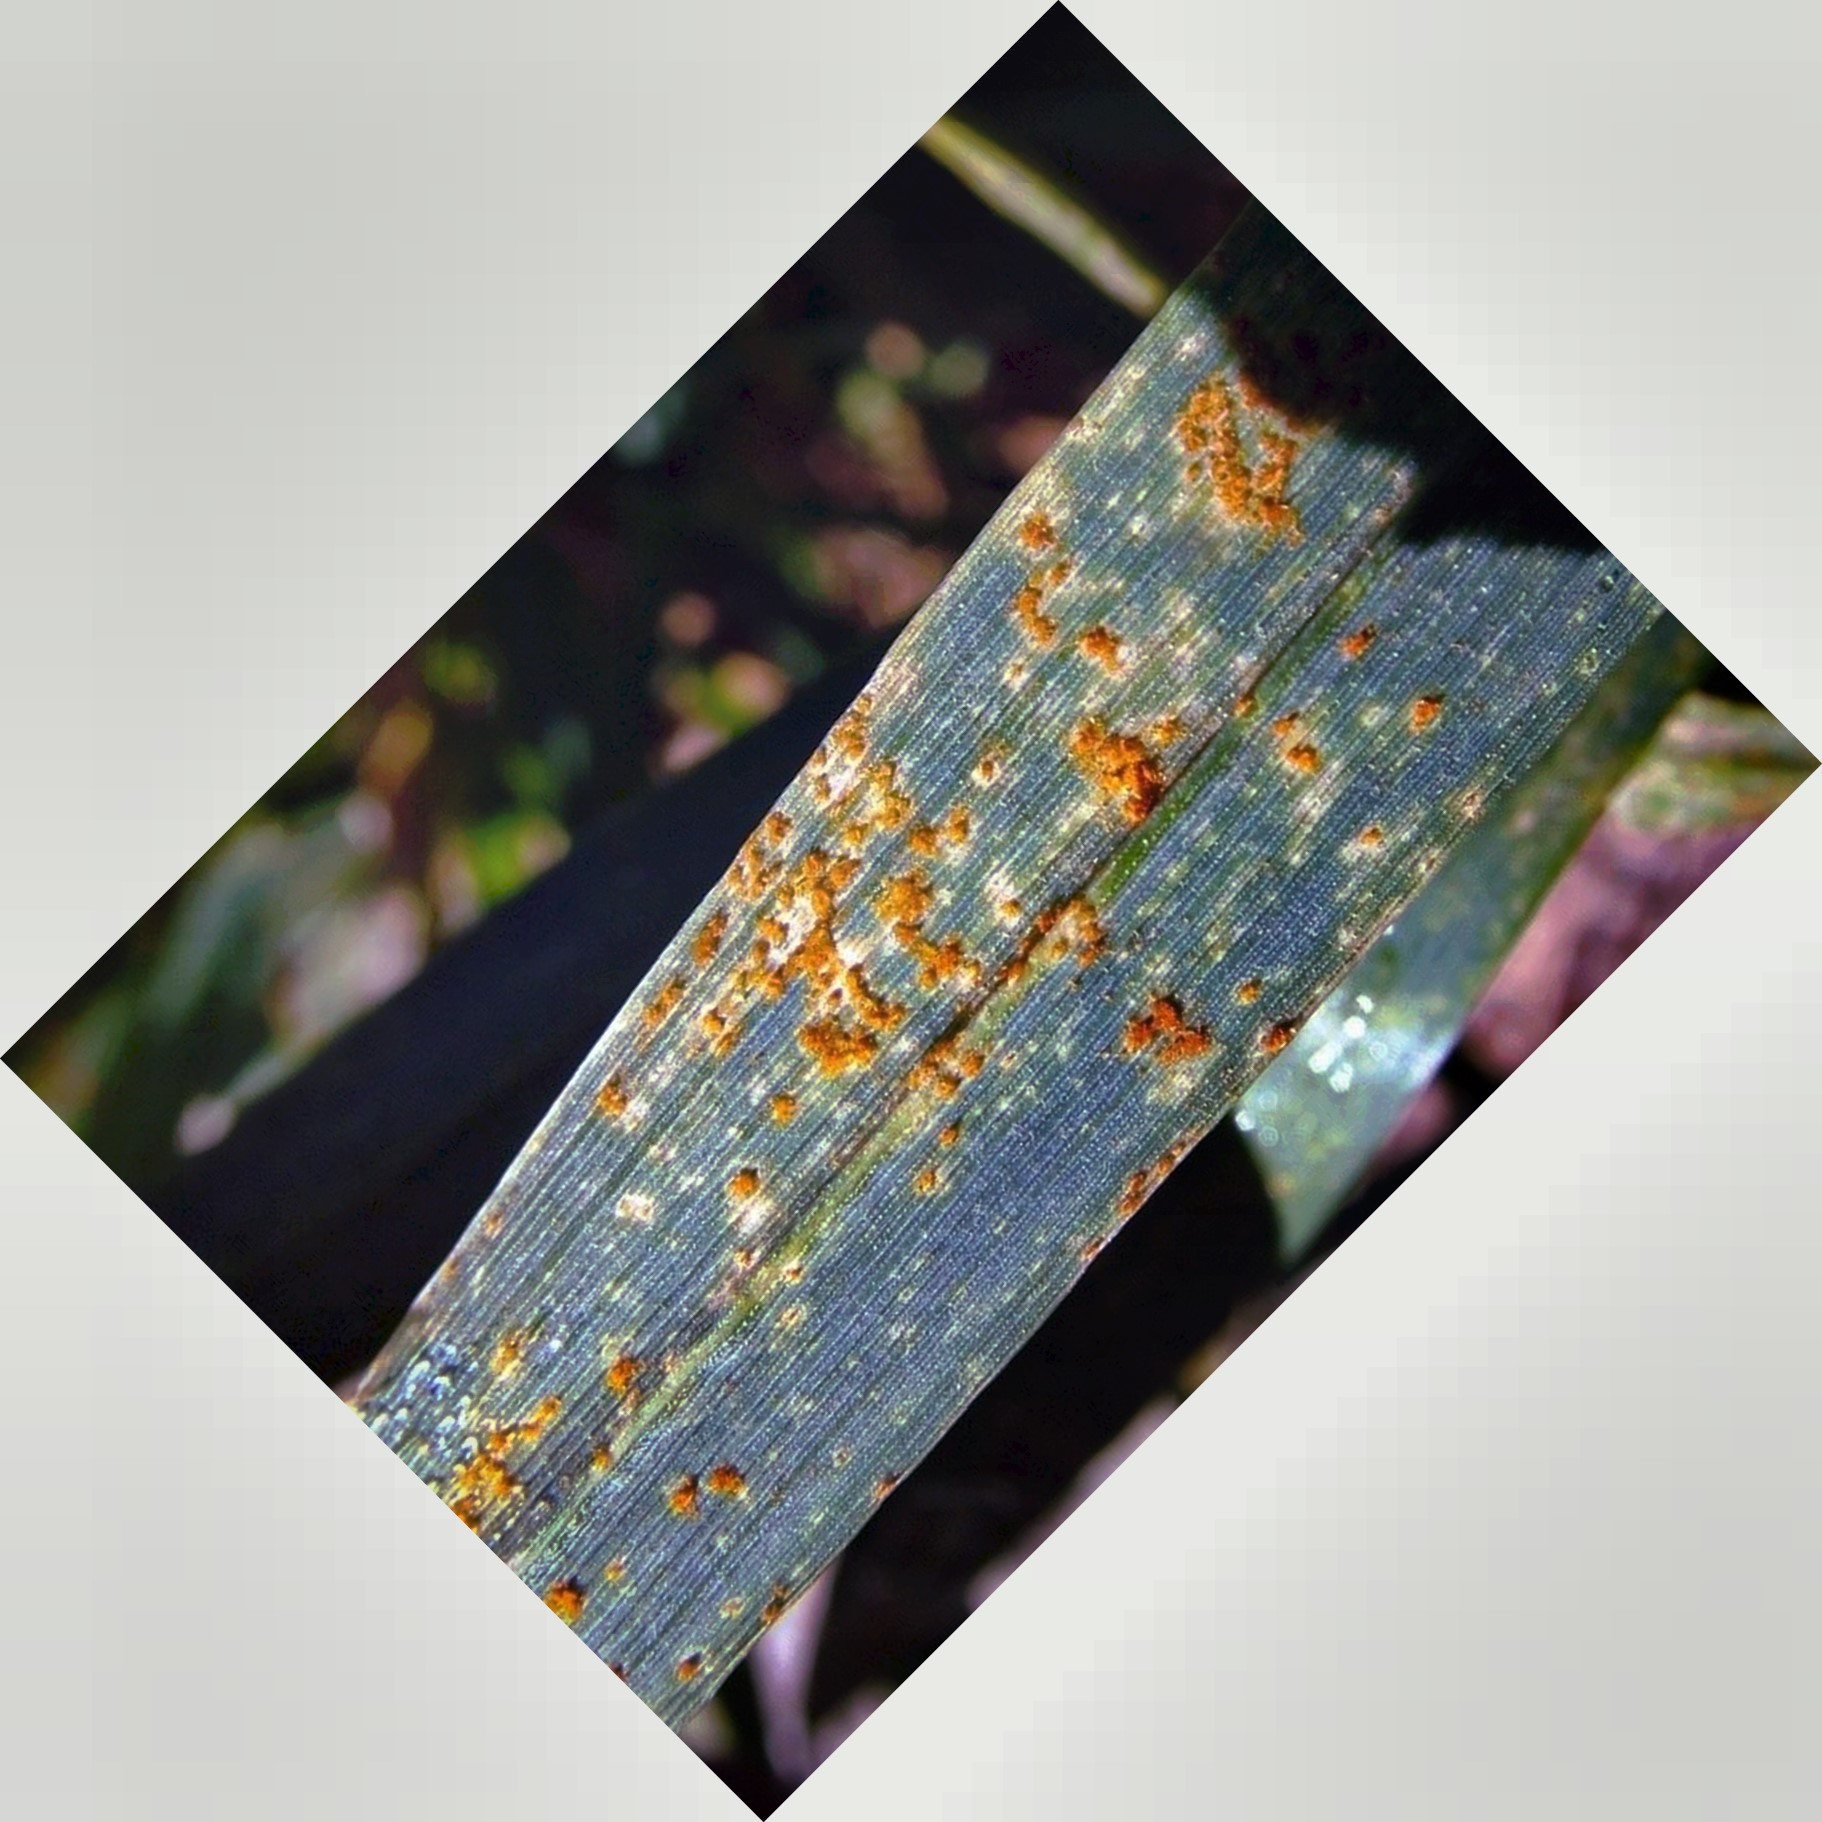Leaf Rust: (522, 367, 1470, 1331)
